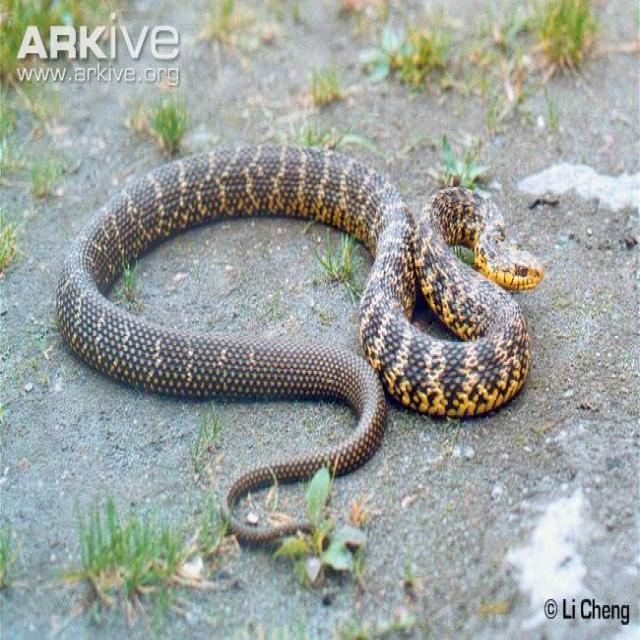Snake: (54, 136, 545, 544)
